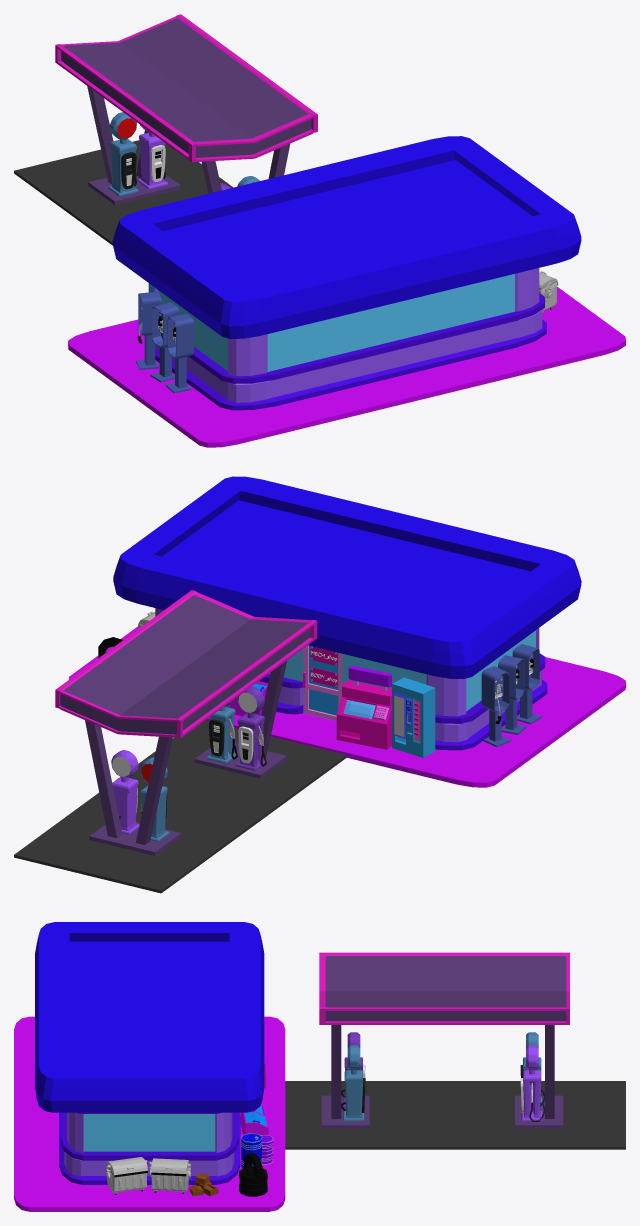
Rendered from gas_station_as_SAMPLE_colored_V2.fbx.
3 views of the same model, one above another, from view 1: azimuth 30°, elevation 25°; view 2: azimuth 150°, elevation 25°; view 3: azimuth 270°, elevation 25° (orthographic). The views are drawn at different scales.
Visible parts, largest first — view 1: store, gas, Plane.013, Plane.012, Plane.014; view 2: store, gas, Plane.010, Plane.009, door, Plane.014, Plane.013, Plane.012; view 3: store, gas, Plane.007, Plane.008, wheel, Plane.011, barrel.001.
Part boxes in pixels (box(x1,y1,x2,y2)): store: box(68, 136, 625, 447); gas: box(14, 14, 317, 245); Plane.013: box(165, 313, 193, 393); Plane.012: box(150, 302, 179, 382); Plane.014: box(136, 291, 161, 369); store: box(69, 476, 625, 787); gas: box(14, 590, 346, 893); Plane.010: box(336, 666, 391, 749); Plane.009: box(392, 677, 435, 757); door: box(303, 645, 342, 720); Plane.014: box(481, 666, 510, 747); Plane.013: box(512, 644, 541, 724); Plane.012: box(498, 655, 526, 734); store: box(14, 922, 285, 1211); gas: box(285, 952, 625, 1149); Plane.007: box(106, 1157, 147, 1194); Plane.008: box(149, 1158, 191, 1193); wheel: box(239, 1153, 267, 1196); Plane.011: box(240, 1104, 268, 1135); barrel.001: box(241, 1133, 262, 1168).
Size of the model in its own units: 8334 by 2787 by 11301.
